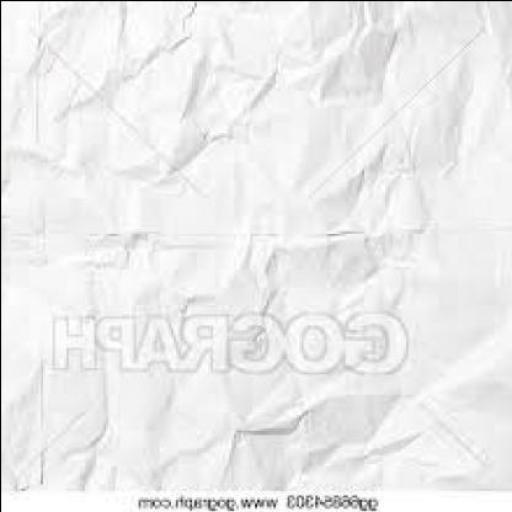paper: (1, 1, 511, 486)
